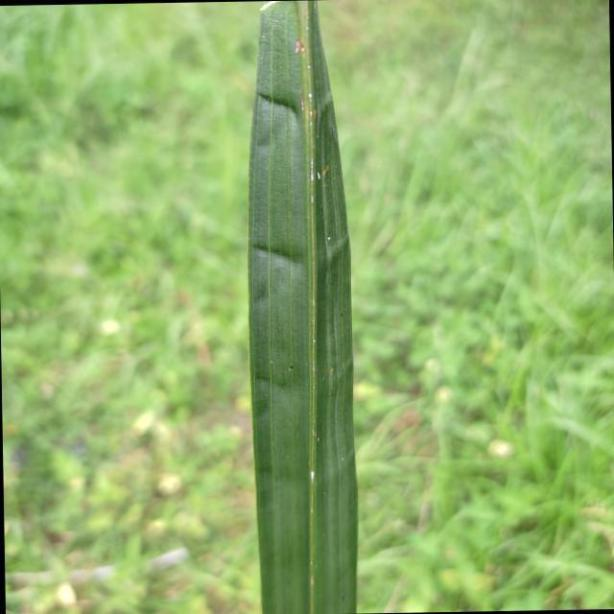Boron: (246, 0, 358, 614)
